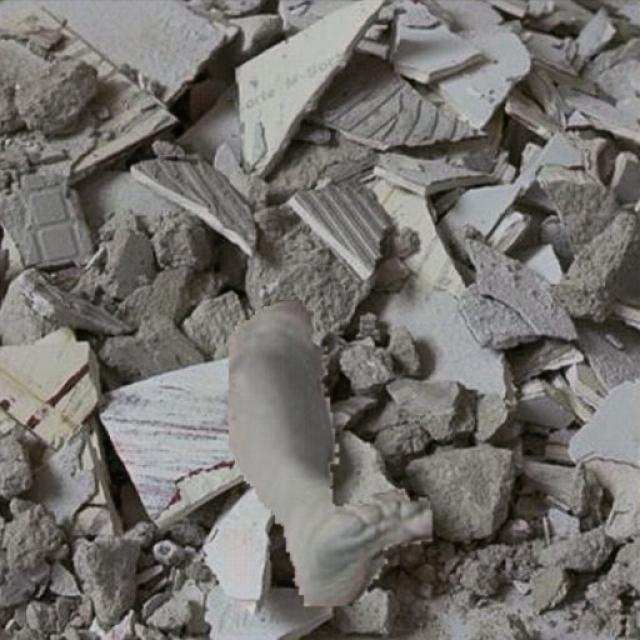Person in Rubble: (228, 297, 432, 605)
